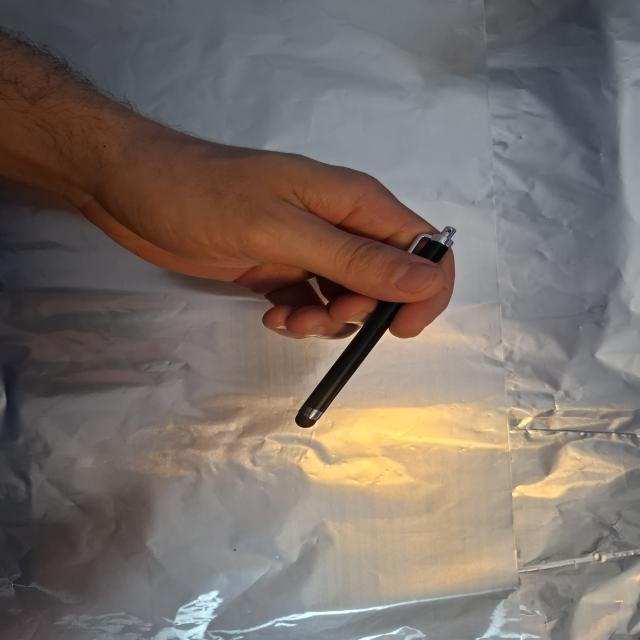glove_off: (65, 105, 459, 342)
